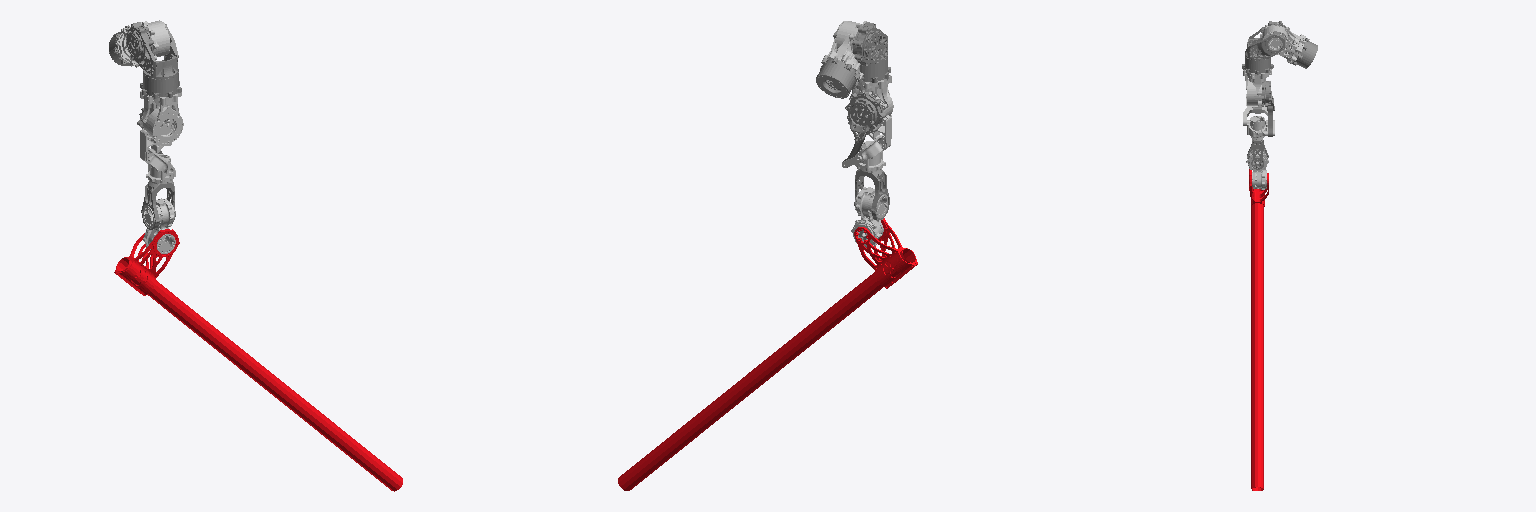
URDF robot description (raipal_saber_R):
<?xml version="1.0" encoding="utf-8"?>
<robot name="raipal_saber_R">
  <!-- [URDF-WRITER] Created with urdf-writer script (by CHH) on 2026-01-27 21:55:36.753541-->

  <!-- [URDF-WRITER] from module [_fixed-base] -->

  <!-- this link makes the robot fixed-base in RAISIM -->
  <link name="world"></link>

  <link name="base"></link>

  <joint name="base_fix" type="fixed">
    <origin xyz="0 0 0.8" rpy="0 0 0"/>
    <parent link="world" />
    <child link="base" />
    <axis xyz="0 0 0" />
  </joint>


  <!-- [URDF-WRITER] from module [raipal_R] -->

  <link name="R_base">
    <!-- CHH / 2025-09-01-20:14 -->
    <!-- link name: [R_base]-->
    <!-- frame: [R0_base]-->
    <inertial>
      <origin 
        xyz="-0.00013000 -0.06389000 -0.05559000"
        rpy="0 0 0" />
      <mass value="0.79658000" />
      <inertia
          ixx="0.00074742"
          ixy="1.892780e-6"
          ixz="-1.179560e-6"
          iyy="0.00098187"
          iyz="-0.00013334"
          izz="0.00082394" />
    </inertial>
    <visual>
      <origin
        xyz="0 0 0"
        rpy="0 0 0" />
      <geometry>
        <mesh filename="../meshes/R_base.STL" />
      </geometry>
      <material name="">
        <color rgba=".6 .6 .6 1" />
      </material>
    </visual>
    <!--<collision>
      <origin
        xyz="0 0 0"
        rpy="0 0 0" />
      <geometry>
        <mesh filename="../meshes/R_base.STL" />
      </geometry>
    </collision>-->
  </link>

  <joint name="R_fix" type="fixed">
    <origin xyz="0 0 0" rpy="0 0 0"/>
    <parent link="base" />
    <child link="R_base" />
    <axis xyz="0 0 0" />
  </joint>

  <link name="R_collar">
    <!-- CHH / 2025-09-01-20:14 -->
    <!-- link name: [R_collar]-->
    <!-- frame: [R1_flexion]-->
    <inertial>
      <origin 
        xyz="0.00471000 -1.000000e-5 0.10057000"
        rpy="0 0 0" />
      <mass value="1.72283000" />
      <inertia
          ixx="0.00466072"
          ixy="5.127800e-7"
          ixz="-0.00028338"
          iyy="0.00434837"
          iyz="8.010400e-7"
          izz="0.00167296" />
    </inertial>
    <visual>
      <origin
        xyz="0 0 0"
        rpy="0 0 0" />
      <geometry>
        <mesh filename="../meshes/R_collar.STL" />
      </geometry>
      <material name="">
        <color rgba="0.8 0.8 0.8 1" />
      </material>
    </visual>
    <!--<collision>
      <origin
        xyz="0 0 0"
        rpy="0 0 0" />
      <geometry>
        <mesh filename="../meshes/R_collar.STL" />
      </geometry>
    </collision>-->
  </link>

  <joint name="R1_flexion" type="revolute"> <!--[0]-->
    <origin
      xyz="0 -0.037198 -0.0709"
      rpy="1.0472 0 0" />
    <parent link="R_base" />
    <child link="R_collar" />
    <axis
      xyz="0 0 1" />
    <limit
      lower="-1.57"
      upper="3.14"
      effort="181"
      velocity="13.9" />
    <dynamics rotor_inertia = "0.0576402034658611" /> <!-- CHH / 2025-09-01-20:30-->
  </joint>

  <link name="R_shoulder">
    <!-- CHH / 2025-09-01-20:14 -->
    <!-- link name: [R_shoulder]-->
    <!-- frame: [R2_adduction]-->
    <inertial>
      <origin 
        xyz="-0.03309000 0.04277000 0.04408000"
        rpy="0 0 0" />
      <mass value="1.92988000" />
      <inertia
          ixx="0.00554587"
          ixy="0.00224326"
          ixz="-0.00046924"
          iyy="0.00422168"
          iyz="0.00058524"
          izz="0.00699049" />
    </inertial>
    <visual>
      <origin
        xyz="0 0 0"
        rpy="0 0 0" />
      <geometry>
        <mesh filename="../meshes/R_shoulder.STL" />
      </geometry>
      <material name="">
        <color rgba="0.6 0.6 0.6 1" />
      </material>
    </visual>
    <!--<collision>
      <origin
        xyz="0 0 0"
        rpy="0 0 0" />
      <geometry>
        <mesh filename="../meshes/R_shoulder.STL" />
      </geometry>
    </collision>-->
  </link>

  <joint name="R2_adduction" type="revolute"> <!--[1]-->
    <origin
      xyz="0.0373 0 0.1418"
      rpy="-1.5707963267949 1.0472 1.5707963267949" />
    <parent link="R_collar" />
    <child link="R_shoulder" />
    <axis
      xyz="0 0 -1" />
    <limit
      lower="-2.618"
      upper="0.488"
      effort="181"
      velocity="13.9" />
    <dynamics rotor_inertia = "0.0576402034658611" /> <!-- CHH / 2025-09-01-20:30-->
  </joint>

  <link name="R_humerus">
    <!-- CHH / 2025-09-01-20:14 -->
    <!-- link name: [R_humerus]-->
    <!-- frame: [R3_rotation]-->
    <inertial>
      <origin 
        xyz="-0.00369000 0.00351000 0.11625000"
        rpy="0 0 0" />
      <mass value="1.96262000" />
      <inertia
          ixx="0.00777442"
          ixy="-1.197057e-5"
          ixz="0.00065917"
          iyy="0.00822155"
          iyz="-0.00015972"
          izz="0.00201683" />
    </inertial>
    <visual>
      <origin
        xyz="0 0 0"
        rpy="0 0 0" />
      <geometry>
        <mesh filename="../meshes/R_humerus.STL" />
      </geometry>
      <material name="">
        <color rgba="0.8 0.8 0.8 1" />
      </material>
    </visual>
    <!--<collision>
      <origin
        xyz="0 0 0"
        rpy="0 0 0" />
      <geometry>
        <mesh filename="../meshes/R_humerus.STL" />
      </geometry>
    </collision>-->
  </link>

  <joint name="R3_rotation" type="revolute"> <!--[2]-->
    <origin
      xyz="-0.06 0.06025 0.0373"
      rpy="-1.5707963267949 1.5707963267949 0" />
    <parent link="R_shoulder" />
    <child link="R_humerus" />
    <axis
      xyz="0 0 -1" />
    <limit
      lower="-3.14"
      upper="3.14"
      effort="181"
      velocity="13.9" />
    <dynamics rotor_inertia = "0.0576402034658611" /> <!-- CHH / 2025-09-01-20:30-->
  </joint>

  <link name="R_elb_input">
    <!-- CHH / 2025-09-01-20:14 -->
    <!-- link name: [R_elb_input]-->
    <!-- frame: [R4a_elbow_power]-->
    <inertial>
      <origin 
        xyz="-2.000000e-5 0.00335000 0.05897000"
        rpy="0 0 0" />
      <mass value="0.83412000" />
      <inertia
          ixx="0.00071114"
          ixy="7.660000e-7"
          ixz="-9.255500e-7"
          iyy="0.00059983"
          iyz="-5.504818e-5"
          izz="0.00080767" />
    </inertial>
    <visual>
      <origin
        xyz="0 0 0"
        rpy="0 0 0" />
      <geometry>
        <mesh filename="../meshes/R_elb_input.STL" />
      </geometry>
      <material name="">
        <color rgba="0.6 0.6 0.6 1" />
      </material>
    </visual>
    <!--<collision>
      <origin
        xyz="0 0 0"
        rpy="0 0 0" />
      <geometry>
        <mesh filename="../meshes/R_elb_input.STL" />
      </geometry>
    </collision>-->
  </link>

  <joint name="R4a_elbow_power" type="revolute"> <!--[3]-->
    <origin
      xyz="0 0.0373 0.1418"
      rpy="1.5707963267949 0 0" />
    <parent link="R_humerus" />
    <child link="R_elb_input" />
    <axis
      xyz="0 0 1" />
    <limit
      lower="0"
      upper="1.556"
      effort="181"
      velocity="13.9" />
    <dynamics rotor_inertia = "0.0576402034658611" /> <!-- CHH / 2025-09-01-20:30-->
  </joint>

  <link name="R_elb_bar">
    <!-- CHH / 2025-09-01-20:14 -->
    <!-- link name: [R_elb_bar]-->
    <!-- frame: [R4b_elbow_bar_input]-->
    <inertial>
      <origin 
        xyz="0.04274000 0.00159000 -4.000000e-5"
        rpy="0 0 0" />
      <mass value="0.05314000" />
      <inertia
          ixx="2.335610e-6"
          ixy="0.0"
          ixz="0.0"
          iyy="6.149582e-5"
          iyz="-3.110000e-9"
          izz="6.199993e-5" />
    </inertial>
    <visual>
      <origin
        xyz="0 0 0"
        rpy="0 0 0" />
      <geometry>
        <mesh filename="../meshes/R_elb_bar.STL" />
      </geometry>
      <material name="">
        <color rgba="0.5 0.5 0.5 1" />
      </material>
    </visual>
    <!--<collision>
      <origin
        xyz="0 0 0"
        rpy="0 0 0" />
      <geometry>
        <mesh filename="../meshes/R_elb_bar.STL" />
      </geometry>
    </collision>-->
  </link>

  <joint name="R4b_elbow_bar_input" type="revolute"> <!--[4-unpowered]-->
    <origin
      xyz="0.00134978286029327 0.0599848154638326 0.0812119041053838"
      rpy="0 0 1.12941902735751" />
    <parent link="R_elb_input" />
    <child link="R_elb_bar" />
    <axis
      xyz="0 0 -1" />
    <limit
      lower="0"
      upper="1.802"
      effort="0"
      velocity="100" />
  </joint>

  <link name="R_ulna">
    <!-- CHH / 2025-09-01-20:14 -->
    <!-- link name: [R_ulna]-->
    <!-- frame: [R4_elbow]-->
    <inertial>
      <origin 
        xyz="0.00533000 0.01576000 -0.03891000"
        rpy="0 0 0" />
      <mass value="0.36947000" />
      <inertia
          ixx="0.00032310"
          ixy="-1.385696e-5"
          ixz="-4.244104e-5"
          iyy="0.00036383"
          iyz="-5.919040e-6"
          izz="0.00020708" />
    </inertial>
    <visual>
      <origin
        xyz="0 0 0"
        rpy="0 0 0" />
      <geometry>
        <mesh filename="../meshes/R_ulna.STL" />
      </geometry>
      <material name="">
        <color rgba="0.8 0.8 0.8 1" />
      </material>
    </visual>
    <!--<collision>
      <origin
        xyz="0 0 0"
        rpy="0 0 0" />
      <geometry>
        <mesh filename="../meshes/R_ulna.STL" />
      </geometry>
    </collision>-->
  </link>

  <joint name="R4_elbow" type="revolute"> <!--[5-unpowered]-->
    <origin
      xyz="0 -0.0439119041053754 0.25475"
      rpy="1.5707963267949 0 0" />
    <parent link="R_humerus" />
    <child link="R_ulna" />
    <axis
      xyz="0 0 -1" />
    <limit
      lower="0"
      upper="2.2689"
      effort="0"
      velocity="100" />
  </joint>

  <link name="R_radius">
    <!-- CHH / 2025-09-01-20:14 -->
    <inertial>
      <origin 
        xyz="0.00151000 0.0 0.10290000"
        rpy="0 0 0" />
      <mass value="0.42307000" />
      <inertia
          ixx="0.00112662"
          ixy="-1.975000e-8"
          ixz="-5.589578e-5"
          iyy="0.00120471"
          iyz="1.556000e-8"
          izz="0.00024138" />
    </inertial>
    <visual>
      <origin
        xyz="0 0 0"
        rpy="0 0 0" />
      <geometry>
        <mesh filename="../meshes/R_radius.STL" />
      </geometry>
      <material name="">
        <color rgba="0.6 0.6 0.6 1" />
      </material>
    </visual>
    <!--</collision>
      <origin
        xyz="0 0 0"
        rpy="0 0 0" />
      <geometry>
        <mesh filename="../meshes/R_radius.STL" />
      </geometry>
    </collision>-->
  </link>

  <joint name="R5_roll" type="revolute">  <!--[6]-->
    <origin
      xyz="0 -0.0135819531869474 -0.0439119041053754"
      rpy="-1.5707963267949 0 0" />
    <parent link="R_ulna" />
    <child link="R_radius" />
    <axis
      xyz="0 0 -1" />
    <limit
      lower="-1.57"
      upper="1.57"
      effort="12.61"
      velocity="53.8" />
    <dynamics rotor_inertia = "0.000540543349430043" /> <!-- CHH / 2025-09-01-20:30-->
  </joint>

  <link name="R_carpal">
    <!-- CHH / 2025-09-01-20:14 -->
    <inertial>
      <origin 
        xyz="-0.00117000 0.03421000 0.02964000"
        rpy="0 0 0" />
      <mass value="0.67981000" />
      <inertia
          ixx="0.00128813"
          ixy="3.134577e-5"
          ixz="3.268690e-6"
          iyy="0.00040998"
          iyz="-9.323146e-5"
          izz="0.00126953" />
    </inertial>
    <visual>
      <origin
        xyz="0 0 0"
        rpy="0 0 0" />
      <geometry>
        <mesh filename="../meshes/R_carpal.STL" />
      </geometry>
      <material name="">
        <color rgba="0.8 0.8 0.8 1" />
      </material>
    </visual>
    <!--</collision>
      <origin
        xyz="0 0 0"
        rpy="0 0 0" />
      <geometry>
        <mesh filename="../meshes/R_carpal.STL" />
      </geometry>
    </collision>-->
  </link>

  <joint name="R6_pitch" type="revolute">  <!--[7]-->
    <origin
      xyz="-0.0337 0 0.153581953186935"
      rpy="1.5707963267949 0 1.5707963267949" />
    <parent link="R_radius" />
    <child link="R_carpal" />
    <axis
      xyz="0 0 1" />
    <limit
      lower="-2.0944"
      upper="2.0944"
      effort="12.61"
      velocity="53.8" />
    <dynamics rotor_inertia = "0.000540543349430043" /> <!-- CHH / 2025-09-01-20:30-->
  </joint>

  <link name="R_ee">
    <!-- CHH / 2025-09-01-20:14 -->
    <inertial>
      <origin 
        xyz="0.0 0.0 0.04531000"
        rpy="0 0 0" />
      <mass value="0.13143000" />
      <inertia
          ixx="3.339173e-5"
          ixy="0.0"
          ixz="0.0"
          iyy="3.339173e-5"
          iyz="0.0"
          izz="4.133016e-5" />
    </inertial>
    <visual>
      <origin
        xyz="0 0 0"
        rpy="0 0 0" />
      <geometry>
        <mesh filename="../meshes/R_ee.STL" />
      </geometry>
      <material name="">
        <color rgba="0.6 0.6 0.6 1" />
      </material>
    </visual>
    <!--</collision>
      <origin
        xyz="0 0 0"
        rpy="0 0 0" />
      <geometry>
        <mesh filename="../meshes/R_ee.STL" />
      </geometry>
    </collision>-->
  </link>

  <joint name="R7_yaw" type="revolute">  <!--[8]-->
    <origin
      xyz="0.0264 0.073 0.0337"
      rpy="0 -1.5707963267949 0" />
    <parent link="R_carpal" />
    <child link="R_ee" />
    <axis
      xyz="0 0 -1" />
    <limit
      lower="-1.57079"
      upper="1.57079"
      effort="12.61"
      velocity="53.8" />
    <dynamics rotor_inertia = "0.000540543349430043" /> <!-- CHH / 2025-09-01-20:30-->
  </joint>

  <!-- Imaginary links for loop closure -->
  <link name="R_loop_barside"></link>

  <joint name="R4cA_elbow_loop_bar" type="fixed">
    <origin
      xyz="0.0854747786370337 0 0"
      rpy="0 0 0" />
    <parent link="R_elb_bar" />
    <child link="R_loop_barside" />
    <axis
      xyz="0 0 1" />
    <!-- relaxed limits since others are constrained -->
    <limit
      lower="-3.14"
      upper="3.14"
      effort="0"
      velocity="100" />
  </joint>

  <link name="R_loop_ulnaside"></link>

  <joint name="R4cB_elbow_loop_ulna_fixed" type="fixed">
    <origin
      xyz="0.0378633410992504 0.0243180468130526 0"
      rpy="0 0 1.12941902735751" />
    <parent link="R_ulna" />
    <child link="R_loop_ulnaside" />
    <axis
      xyz="0 0 0" />
  </joint>

  
  <!-- [URDF-WRITER] from module [saber_R] -->
  <link name="R_saber">
    <!-- CHH / 2025-09-01-20:14 -->
    <inertial>
      <origin 
        xyz="0.11183000 0.21907000 0.02364000"
        rpy="0 0 0" />
      <mass value="0.30670000" />
      <inertia
          ixx="0.02001065"
          ixy="-0.01687536"
          ixz="-9.085322e-5"
          iyy="0.01548451"
          iyz="-0.00019124"
          izz="0.03529250" />
    </inertial>
    <visual>
      <origin
        xyz="0 0 0"
        rpy="0 0 0" />
      <geometry>
        <mesh filename="../meshes/R_saber.STL" />
      </geometry>
      <material name="">
        <color rgba="1 0.1 0.15 1" />
      </material>
    </visual>
    <!--</collision>
      <origin
        xyz="0 0 0"
        rpy="0 0 0" />
      <geometry>
        <mesh filename="../meshes/R_saber.STL" />
      </geometry>
    </collision>-->
    <collision>
      <origin
        xyz="0.28803051240434 0.44003051240434 0.0264 "
        rpy="0.7854 1.5708 -1.5708" />
      <geometry>
        <cylinder radius="0.02125" length="1.126" />
      </geometry>
    </collision>
  </link>

  <joint name="RE_end_effector_fixed" type="fixed">
    <origin
      xyz="0 0 0"
      rpy="0 0 0" />
    <parent link="R_ee" />
    <child link="R_saber" />
    <axis
      xyz="0 0 0" />
  </joint>

  <!-- [URDF-WRITER] merged constraints -->
  <constraints nominal_config="0 0 0 0 0 0 0 0 0 0 0 0 0 0 0 0 0 0 0 0 0">
    <pin body1="R_loop_barside" body2="R_loop_ulnaside" anchor="0.0 0.0 0.0"/>
  </constraints>

</robot>

--- What the picture shows (computed from the rendered views, not written in the file) ---
The picture shows the robot from 3 angles, left to right: view 1: azimuth 30°, elevation 25°; view 2: azimuth 150°, elevation 25°; view 3: azimuth 270°, elevation 25°; orthographic projection.
Model raipal_saber_R with 15 links and 14 joints (9 revolute, 5 fixed), rooted at world, posed all joints at 0.
Links seen in each view (by area): view 1: R_saber, R_shoulder, R_humerus, R_carpal, R_collar, R_radius; view 2: R_saber, R_shoulder, R_humerus, R_elb_input, R_base, R_carpal, R_collar, R_radius, R_ulna; view 3: R_saber, R_shoulder, R_collar, R_humerus.
Boxes of the visible links, bbox=[...] form: R_saber: bbox=[114, 229, 402, 491]; R_shoulder: bbox=[126, 22, 181, 98]; R_humerus: bbox=[140, 90, 183, 174]; R_carpal: bbox=[143, 198, 175, 253]; R_collar: bbox=[115, 20, 170, 66]; R_radius: bbox=[141, 181, 175, 229]; R_saber: bbox=[618, 218, 917, 490]; R_shoulder: bbox=[833, 22, 890, 82]; R_humerus: bbox=[849, 75, 893, 162]; R_elb_input: bbox=[845, 92, 885, 142]; R_base: bbox=[816, 57, 860, 98]; R_carpal: bbox=[851, 187, 887, 247]; R_collar: bbox=[824, 21, 866, 79]; R_radius: bbox=[854, 169, 889, 219]; R_ulna: bbox=[842, 141, 885, 172]; R_saber: bbox=[1249, 169, 1268, 490]; R_shoulder: bbox=[1242, 21, 1289, 74]; R_collar: bbox=[1260, 22, 1305, 63]; R_humerus: bbox=[1243, 69, 1271, 125].
Size in the robot's own frame: 0.8307 by 0.2589 by 1.43 metres.
Meshes: 11 distinct files referenced, 11 mesh visuals loaded (11 binary STL).
